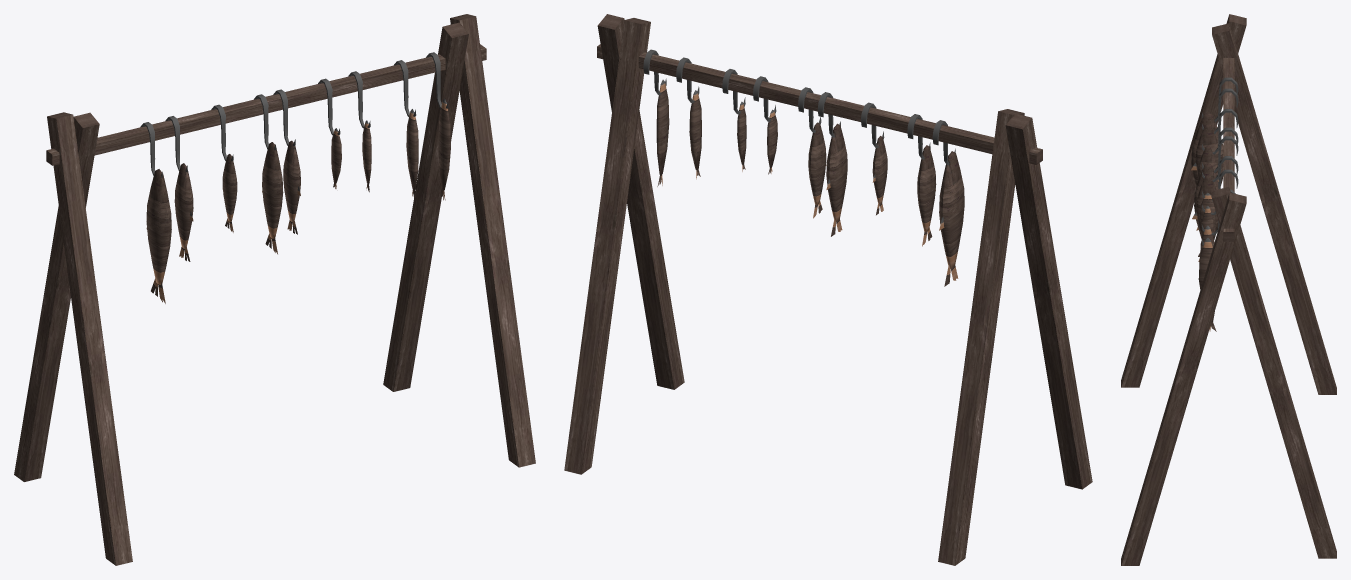
The model's file is Dock_Props_Rack_Fish.gltf.
The picture shows the model from 3 angles, left to right: view 1: azimuth 30°, elevation 25°; view 2: azimuth 150°, elevation 25°; view 3: azimuth 270°, elevation 25°; orthographic projection. The views are drawn at different scales.
Parts seen in each view (by area): view 1: Dock_Props_Rack_Fish; view 2: Dock_Props_Rack_Fish; view 3: Dock_Props_Rack_Fish.
Boxes of the visible parts, box(x1,y1,x2,y2) form: Dock_Props_Rack_Fish: box(14, 14, 535, 565); Dock_Props_Rack_Fish: box(564, 14, 1092, 565); Dock_Props_Rack_Fish: box(1121, 14, 1336, 565).
Size of the model in its own units: 2.42 by 2.15 by 1.15.
Materials: 2 (2 with a texture image).
